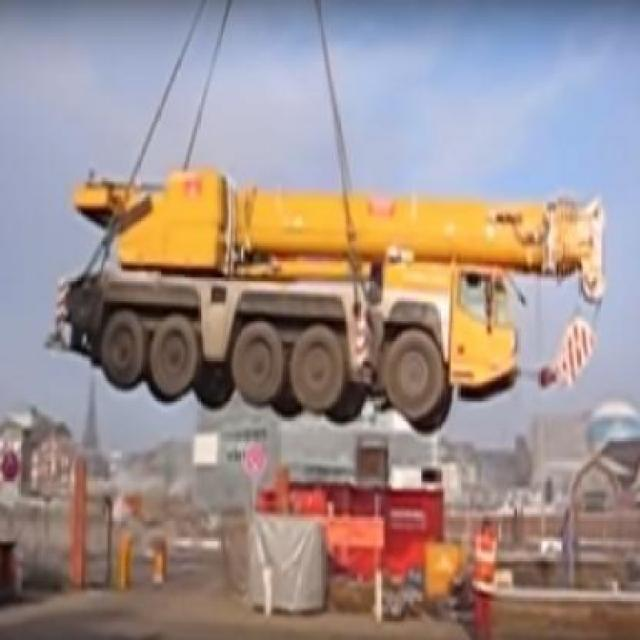Mobile Crane: (49, 164, 603, 428)
